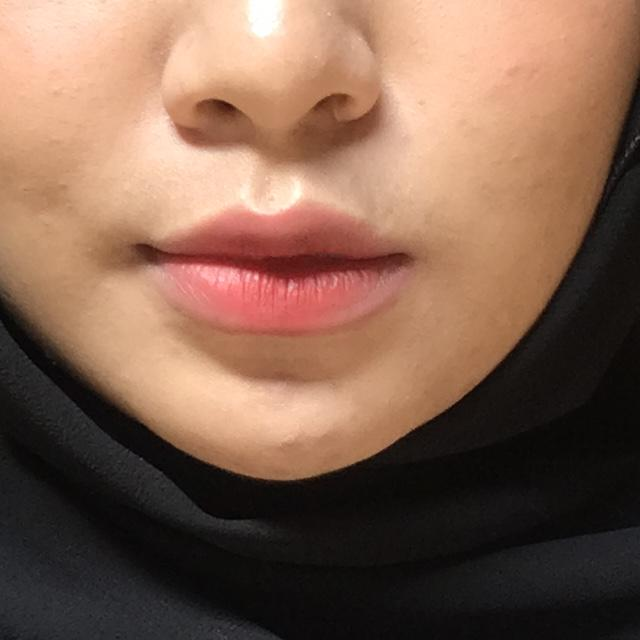ibu: (0, 0, 275, 640)
